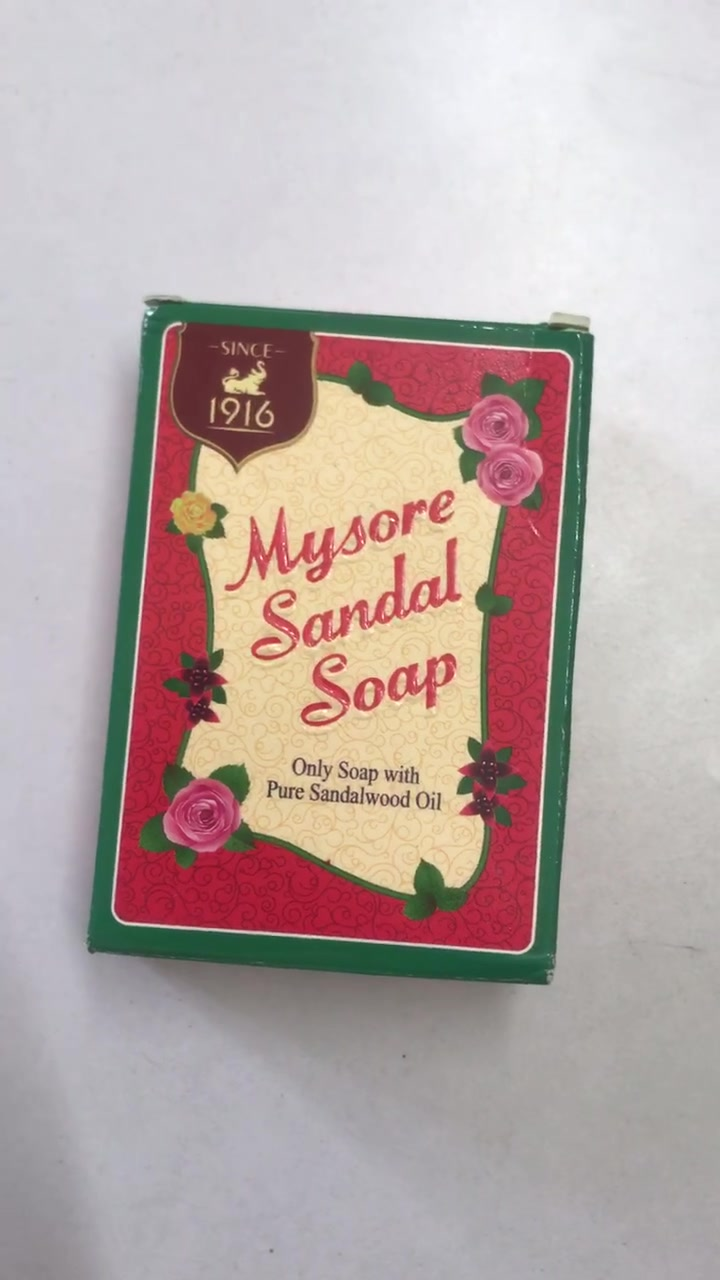mysore sandal soap: (84, 299, 594, 981)
